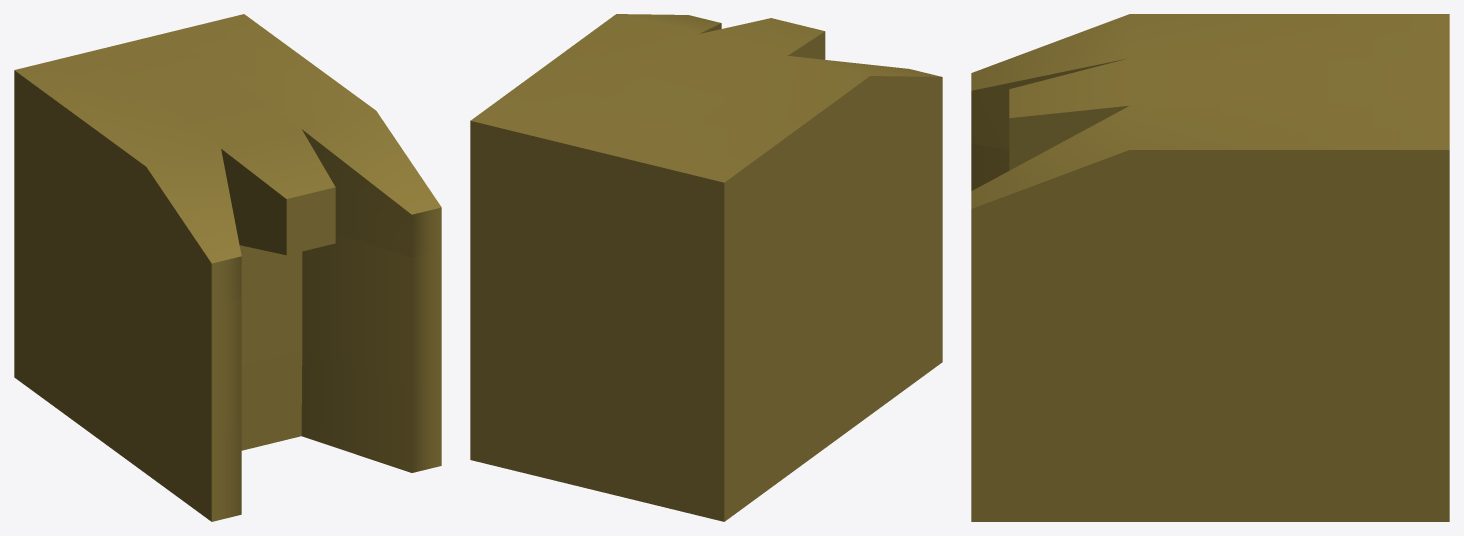
The model's file is RoofCapAType01.fbx.
3 views of the same model, side by side, from view 1: azimuth 30°, elevation 25°; view 2: azimuth 150°, elevation 25°; view 3: azimuth 270°, elevation 25° (orthographic). The views are drawn at different scales.
Parts seen in each view (by area): view 1: RoofSideBeamCapLoBase; view 2: RoofSideBeamCapLoBase; view 3: RoofSideBeamCapLoBase.
Boxes of the visible parts, x1=… form: RoofSideBeamCapLoBase: x1=14, y1=14, x2=441, y2=521; RoofSideBeamCapLoBase: x1=470, y1=14, x2=942, y2=521; RoofSideBeamCapLoBase: x1=971, y1=14, x2=1449, y2=521.
Size of the model in its own units: 20.39 by 26.03 by 30.33.
